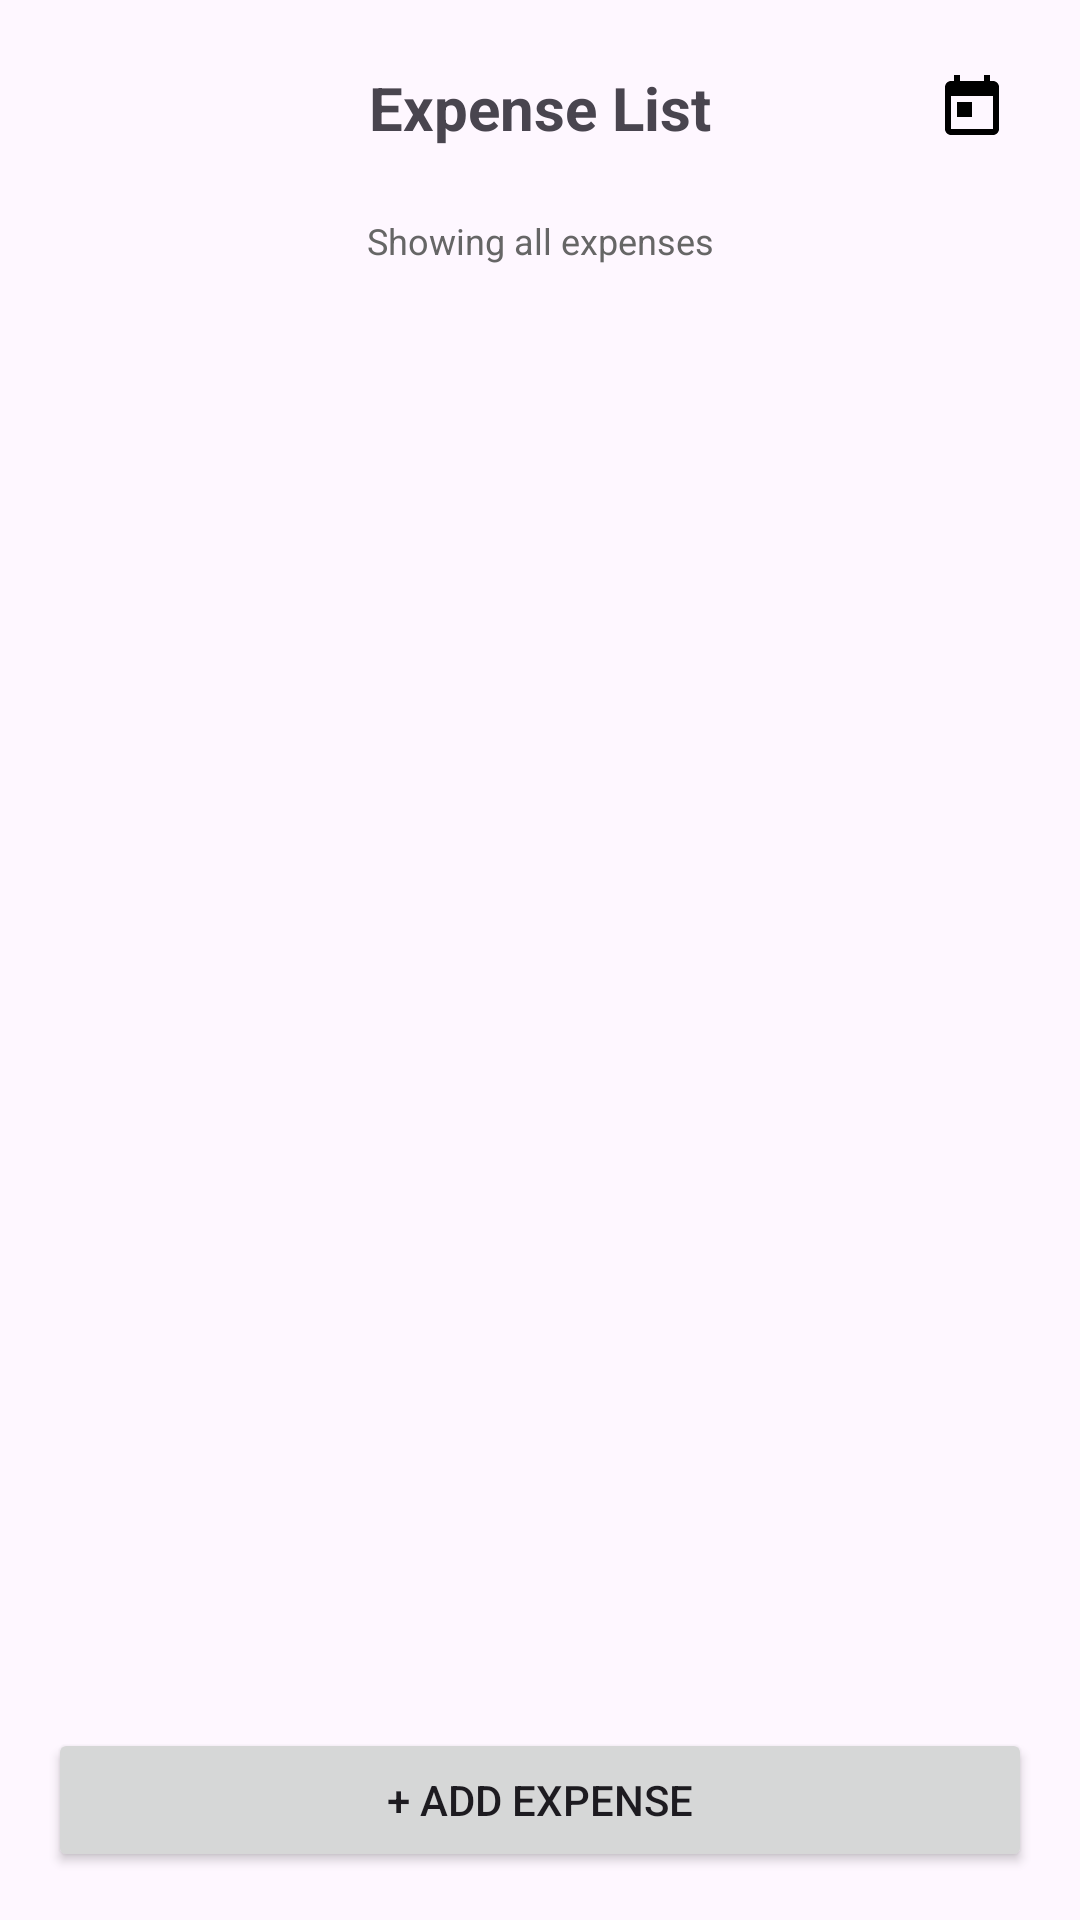

Named icons in this screenshot (1080 × 1920) and their bounding boxes, box=[x1, y1, x2, y2]:
calendar: box=[945, 75, 999, 135]
